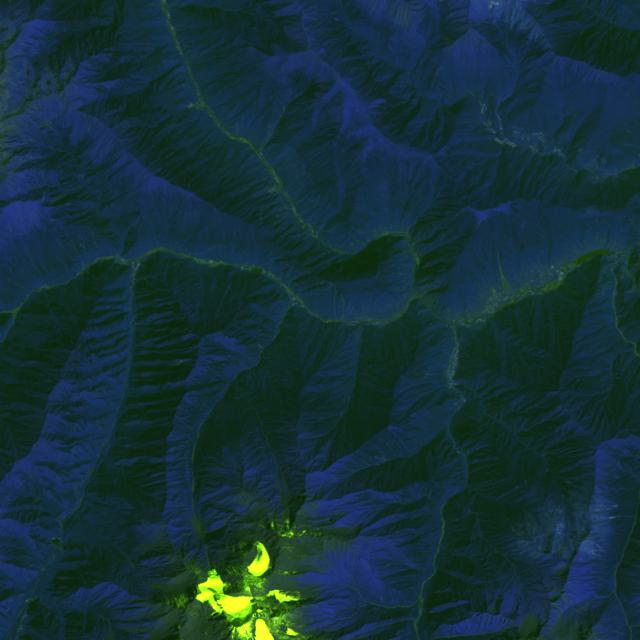landslides: (119, 217, 141, 256), (30, 138, 65, 153), (497, 251, 510, 290), (257, 128, 278, 150), (6, 276, 29, 295), (597, 514, 634, 522), (581, 543, 599, 557), (92, 231, 102, 255), (594, 504, 617, 514), (330, 382, 348, 394), (586, 538, 602, 551), (78, 238, 89, 256), (339, 295, 346, 322), (333, 287, 338, 320), (426, 495, 441, 506), (353, 235, 362, 250), (37, 208, 46, 223), (552, 603, 564, 614), (130, 76, 152, 82), (268, 259, 276, 275), (367, 228, 377, 240), (425, 371, 447, 376), (560, 596, 570, 607), (374, 455, 387, 463), (4, 68, 14, 78)
